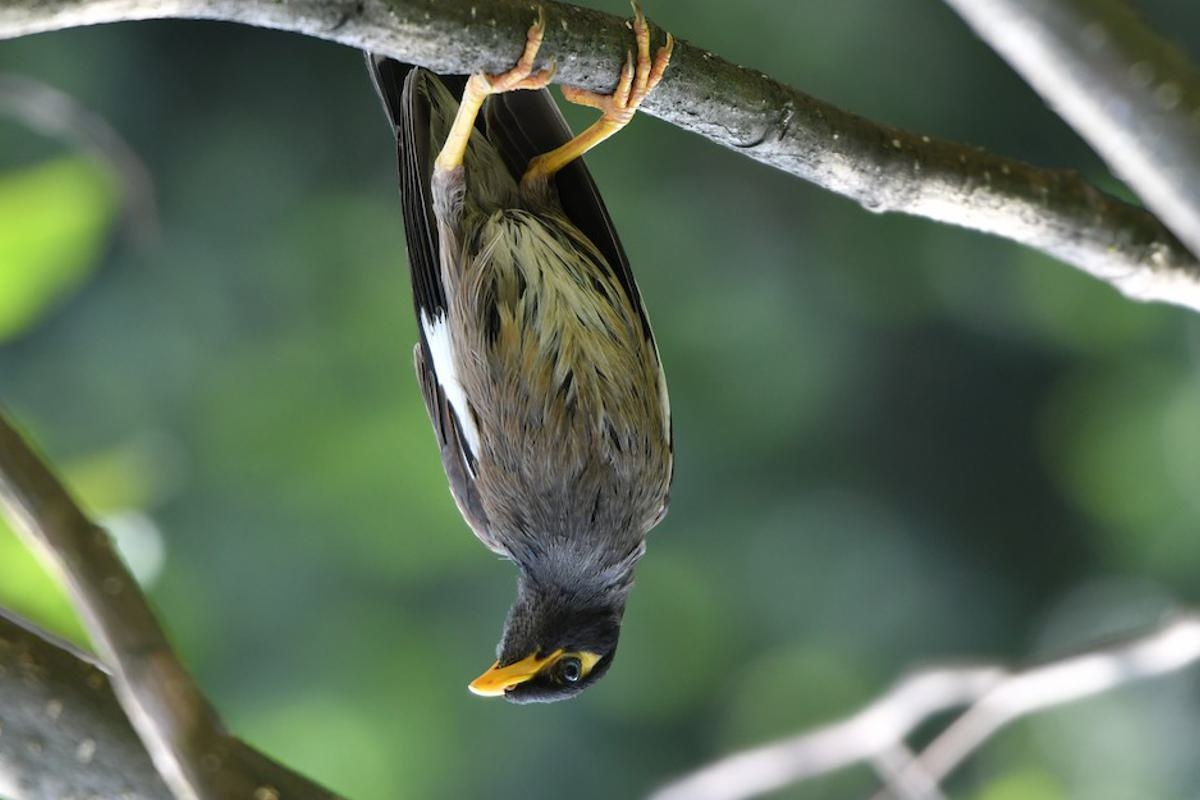myna: (371, 65, 740, 773)
